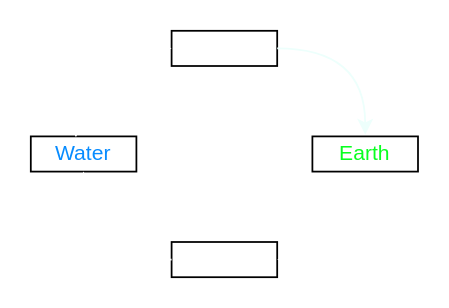
Image size: 449x308. Some labels were removed from this diagram. Here are the shapes that lost their labels. From the top down, the centre of each, then its label:
At (223,47): "Fire".
At (223,258): "Lightning".
